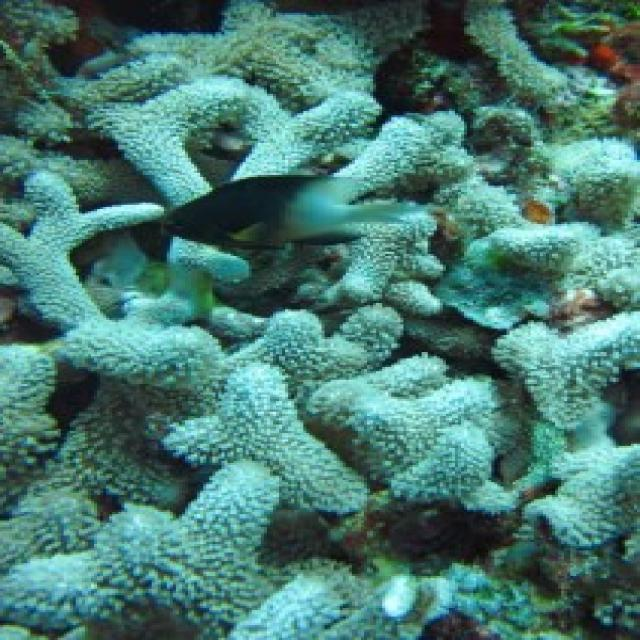Bleached: (1, 462, 280, 639), (292, 112, 489, 304), (1, 379, 189, 566), (313, 355, 520, 511), (92, 78, 374, 187), (131, 1, 423, 106), (177, 364, 365, 511), (1, 172, 162, 330), (450, 223, 638, 327), (492, 312, 638, 430), (514, 445, 638, 579), (465, 1, 589, 127), (59, 319, 225, 400), (241, 304, 401, 387), (228, 560, 374, 639), (122, 238, 247, 325), (1, 344, 59, 483), (553, 140, 638, 227)
